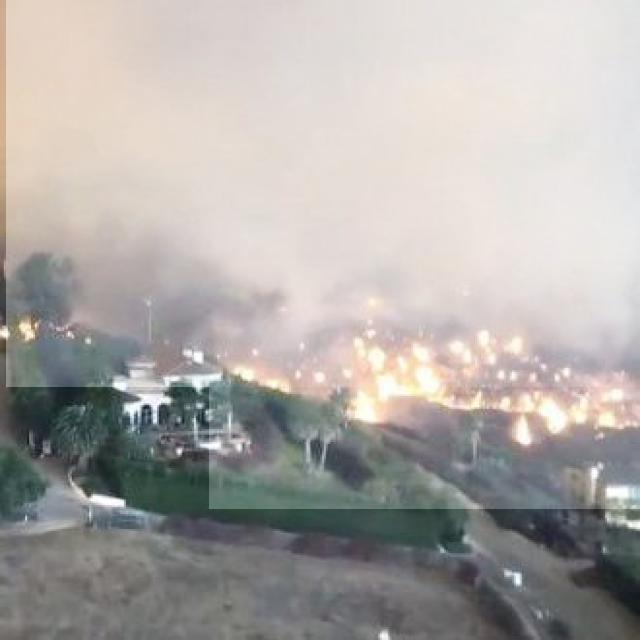Fire: (209, 295, 640, 509)
Smoke: (6, 0, 640, 387)
